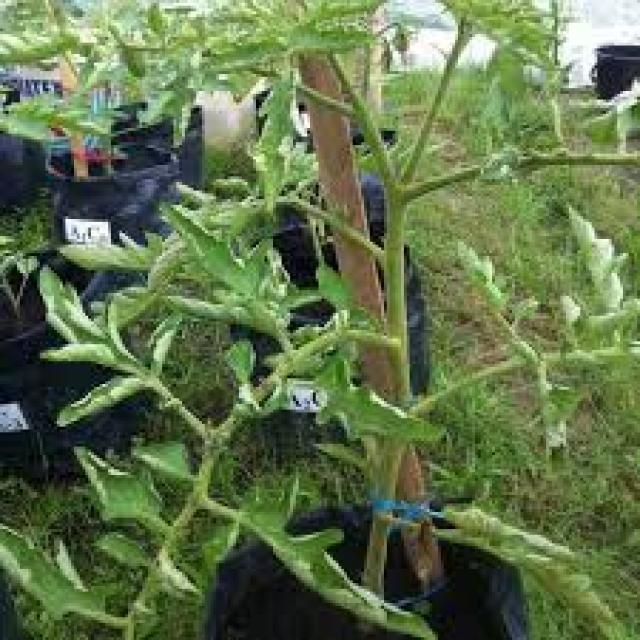Nutirtion_deficie: (114, 151, 365, 395), (160, 413, 422, 634), (432, 162, 640, 427), (370, 458, 623, 640), (0, 219, 182, 414), (22, 0, 224, 151), (482, 0, 633, 139), (252, 0, 462, 93)
